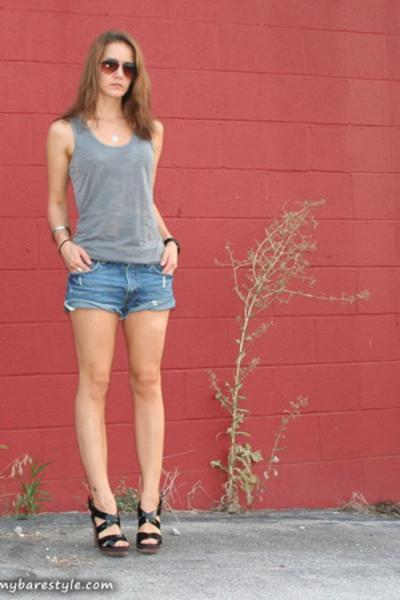shirt: (64, 119, 171, 263)
shoe: (88, 499, 160, 557)
shorts: (65, 255, 174, 515)
sunglass: (108, 60, 139, 87)
